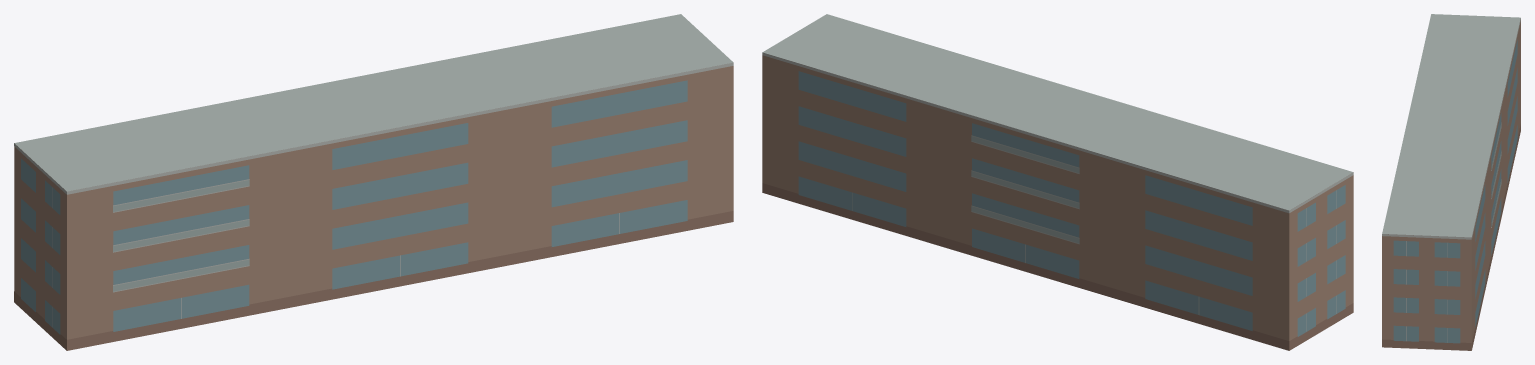
File: survey-upis-32775101.glb
3 views of the same model, side by side, from view 1: azimuth 30°, elevation 25°; view 2: azimuth 150°, elevation 25°; view 3: azimuth 270°, elevation 25° (orthographic). The views are drawn at different scales.
Visible parts, largest first — view 1: survey-upis-32775101.tmp; view 2: survey-upis-32775101.tmp; view 3: survey-upis-32775101.tmp.
Boxes of the visible parts, box(x1,y1,x2,y2) form: survey-upis-32775101.tmp: box(14, 14, 733, 350); survey-upis-32775101.tmp: box(762, 14, 1353, 350); survey-upis-32775101.tmp: box(1382, 14, 1520, 350).
Size of the model in its own units: 51.52 by 12.2 by 13.53.
